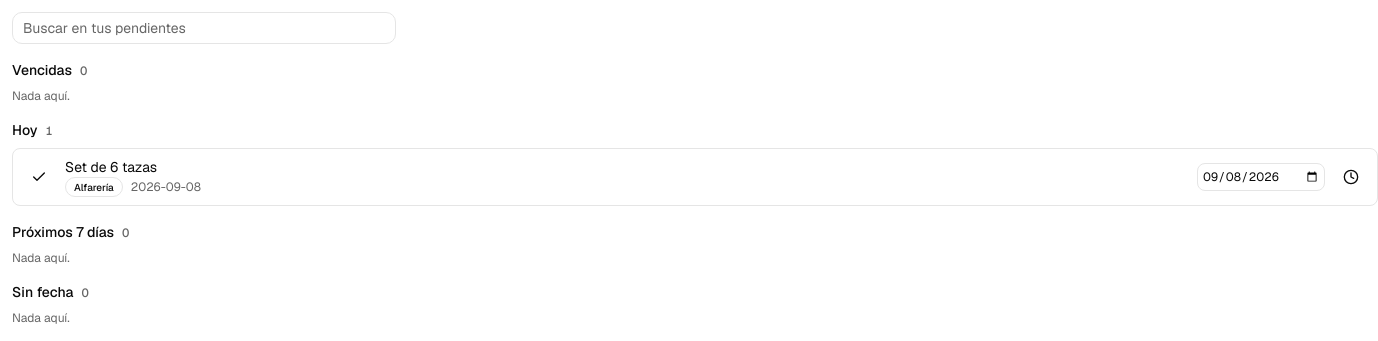
MyTasksScreen · filtros › un filtro sin resultados lo declara
Type "nada de nada" into the search field labelled "Buscar en tus pendientes" at point(204, 28), box [12, 12, 396, 44]
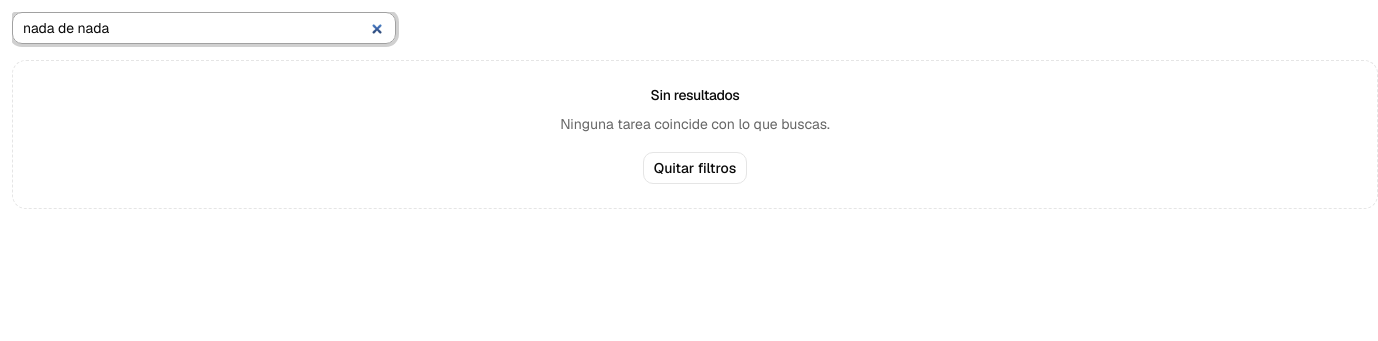
Now the element with test id "my-tasks-empty" shows "Ninguna tarea coincide", box [560, 115, 830, 133]
